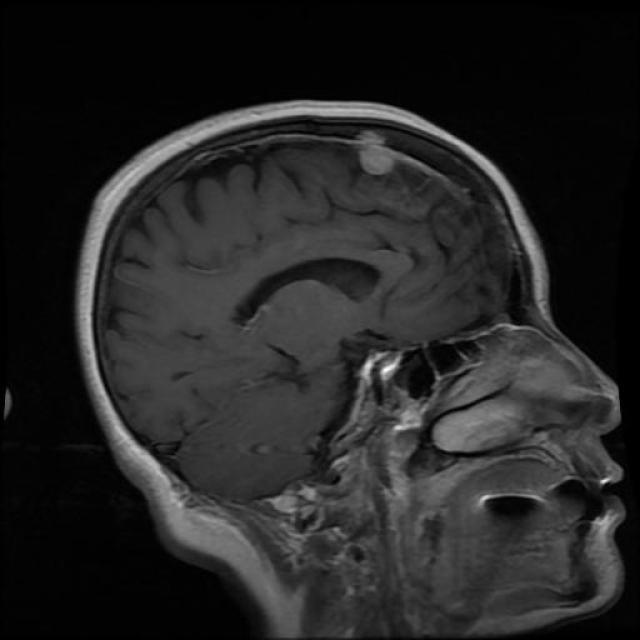meningioma: (360, 144, 394, 176)
